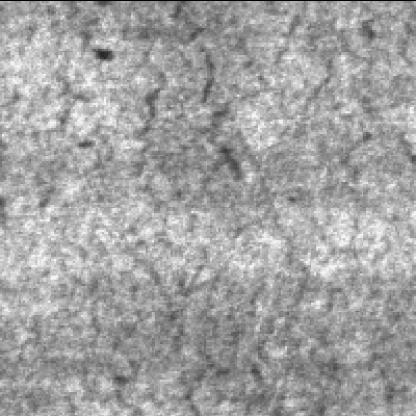crazing: (79, 29, 277, 416), (283, 2, 414, 416)
